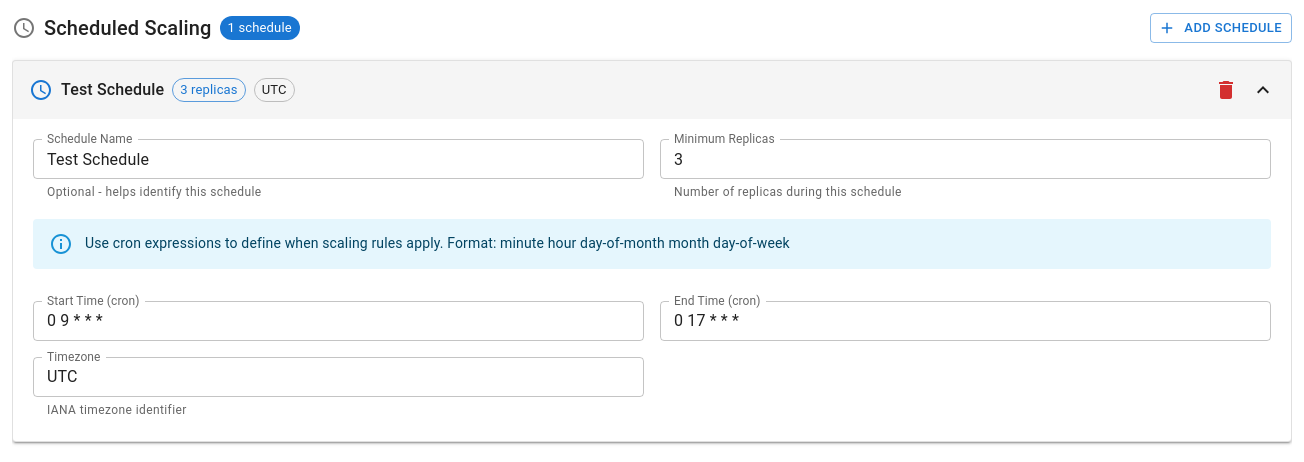
Test case: ScheduleForm › expands and collapses schedule cards
This screenshot has width=1304, height=462.
Expected: the field labelled "Schedule Name" is shown, [33,139,644,179]
Expected: the icon with test id "ExpandLessIcon" is shown, [1251,78,1275,102]
Note: The whole header row toggles the card, so a click on the title bubbles up
Click the heading "Test Schedule" at (113, 90), box [61,76,164,104]
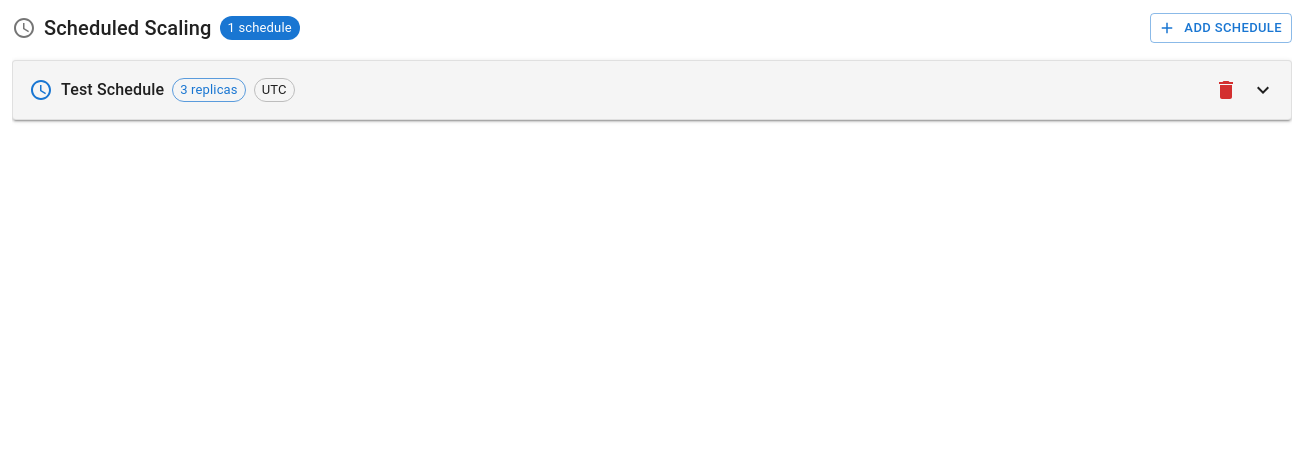
Expected: the icon with test id "ExpandMoreIcon" is shown, [1251,78,1275,102]
